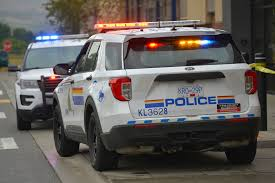special: (53, 18, 263, 170), (14, 33, 90, 132)
